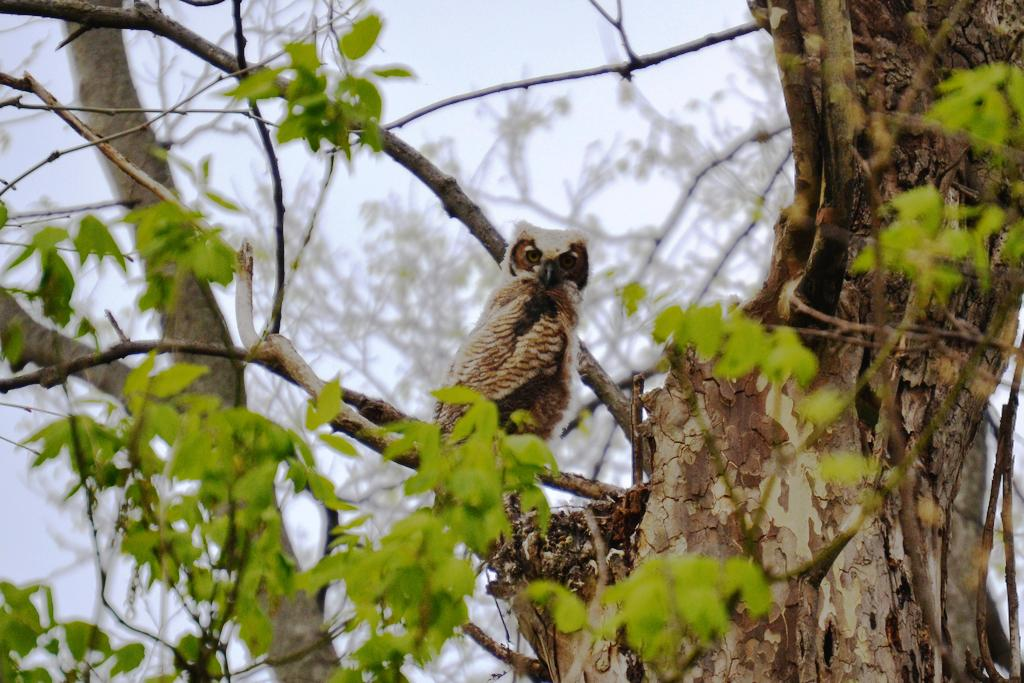Owl: (434, 217, 594, 456)
